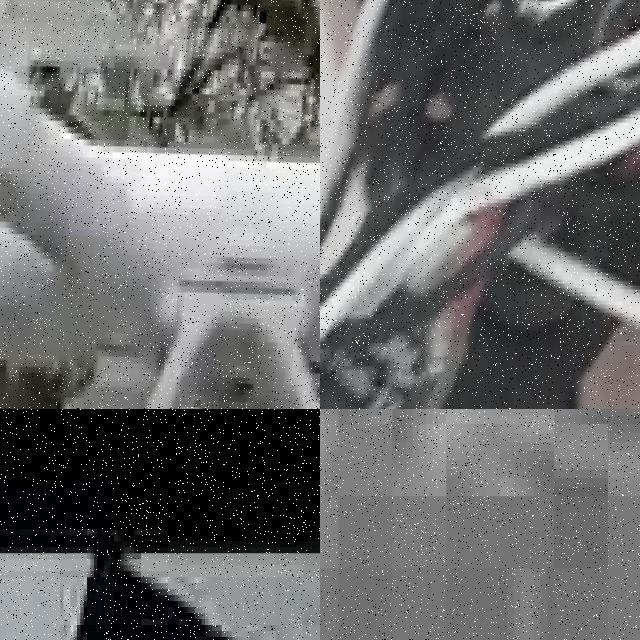drone: (0, 0, 320, 409), (320, 0, 640, 409)
